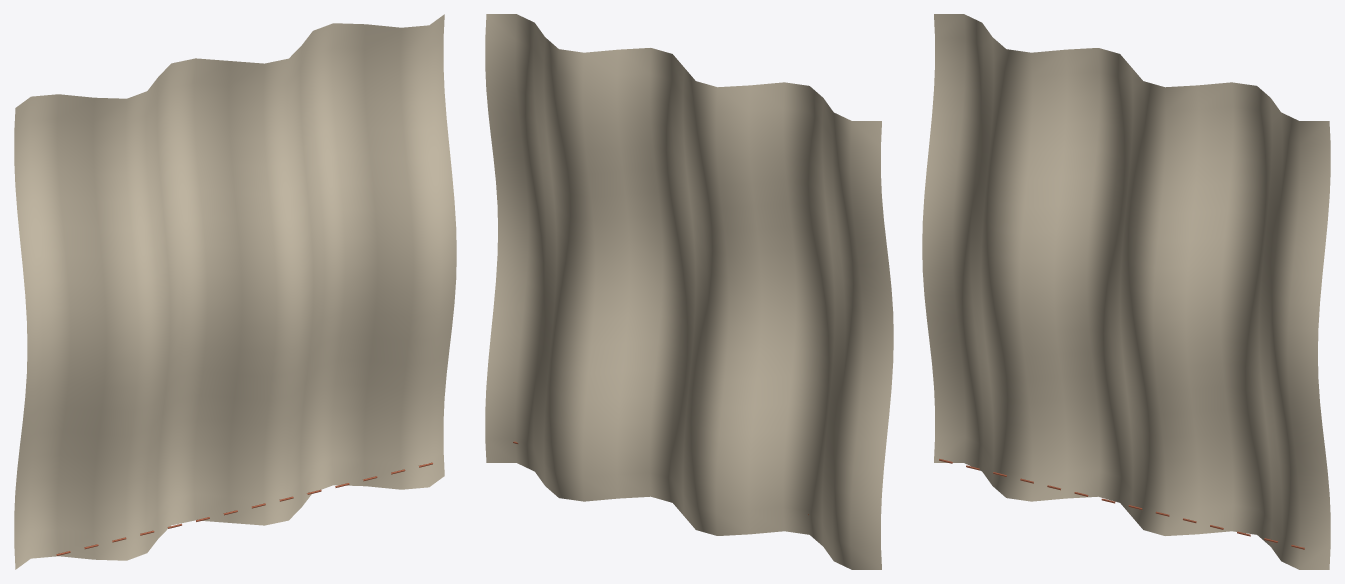
Rendered from draped-swatch.glb.
3 views of the same model, side by side, from view 1: azimuth 30°, elevation 25°; view 2: azimuth 150°, elevation 25°; view 3: azimuth 330°, elevation 25° (orthographic). The views are drawn at different scales.
Visible parts, largest first — view 1: linen-swatch; view 2: linen-swatch; view 3: linen-swatch.
Part boxes in pixels (<box>): linen-swatch: <box>14,14,456,569</box>; linen-swatch: <box>485,14,893,569</box>; linen-swatch: <box>922,14,1330,569</box>.
Bounding box in the file's own units: 0.9 × 0.95 × 0.1485.
